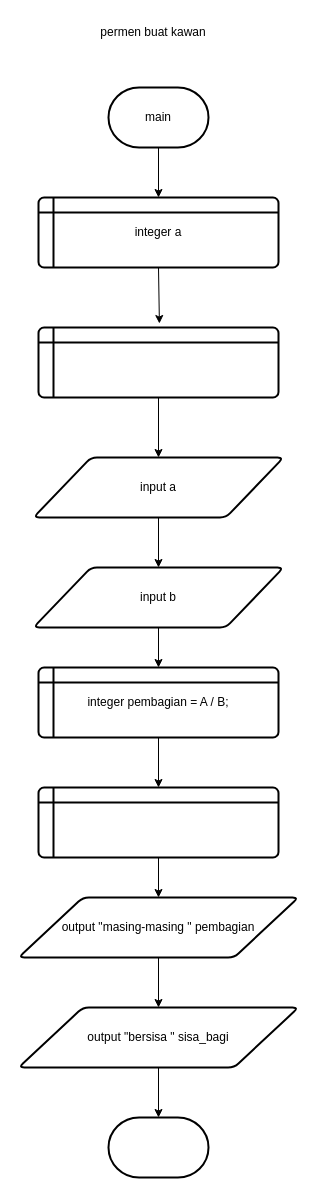
Image size: 316x1195. Some labels were removed from this diagram. Here are the shapes that lost their labels. From the top down, the centre of each, then its label:
At (158,362): "integer b".
At (158,822): "integer sisa_bagi = A % B;".
At (158,1147): "end".
